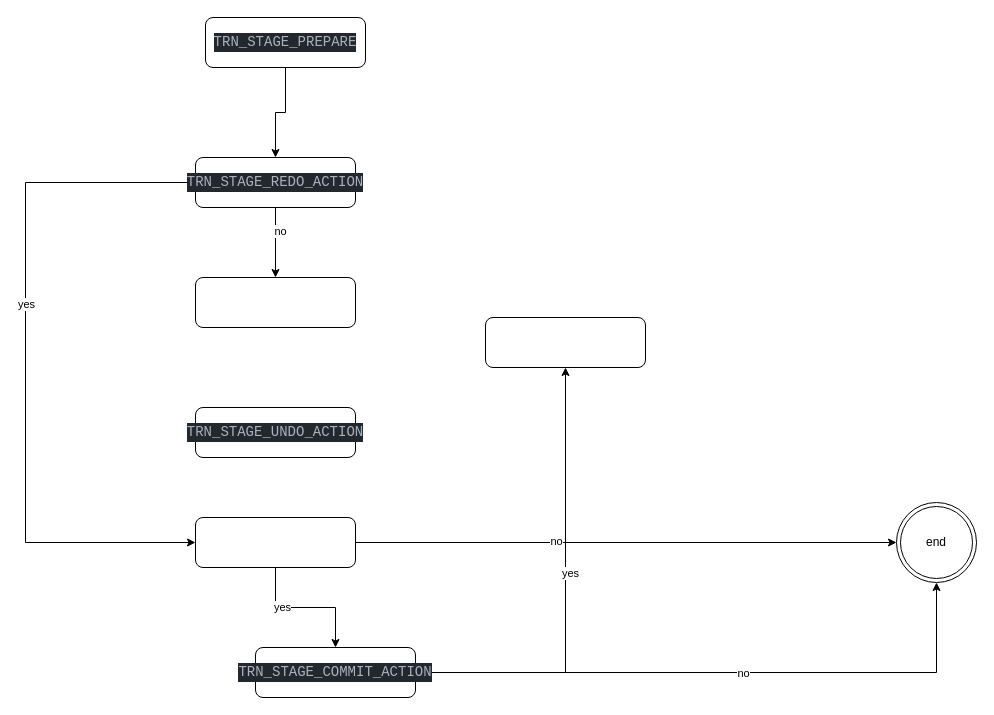
Some shapes in this 994 by 715 pixel diagram are drawn without their labels. Here are the shapes that lost their labels. From the top down, the centre of each, then its label:
At (x=275, y=302): "TRN_STAGE_ROLLBACK".
At (x=565, y=342): "TRN_STAGE_FINISHED".
At (x=275, y=542): "TRN_STAGE_COMMIT".
